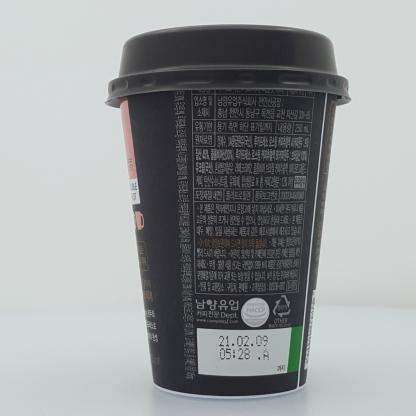----------------: (104, 23, 352, 398)
